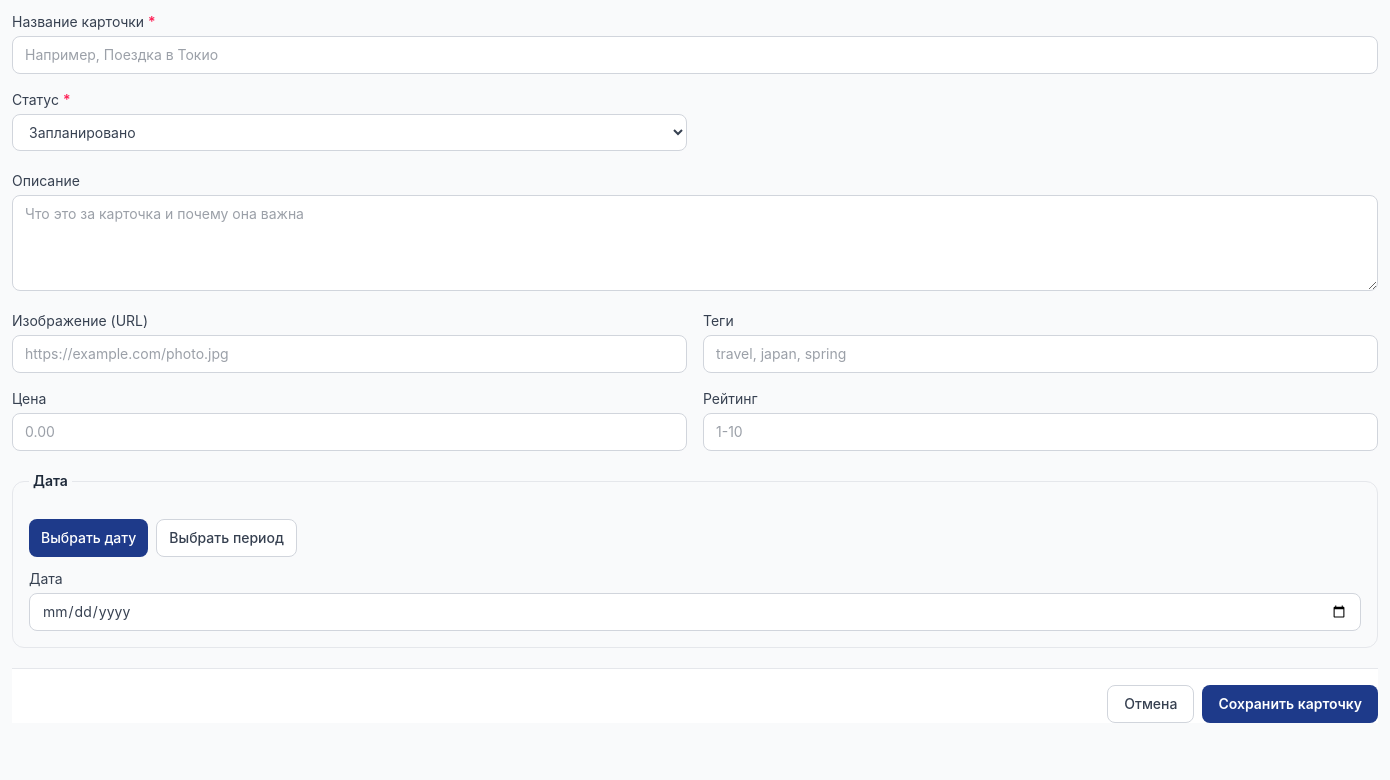
Scenario: EntryForm › requires rating and date for completed status
In the field labelled "Название карточки": [695, 55] box [12,36,1378,74], type "Tokyo"
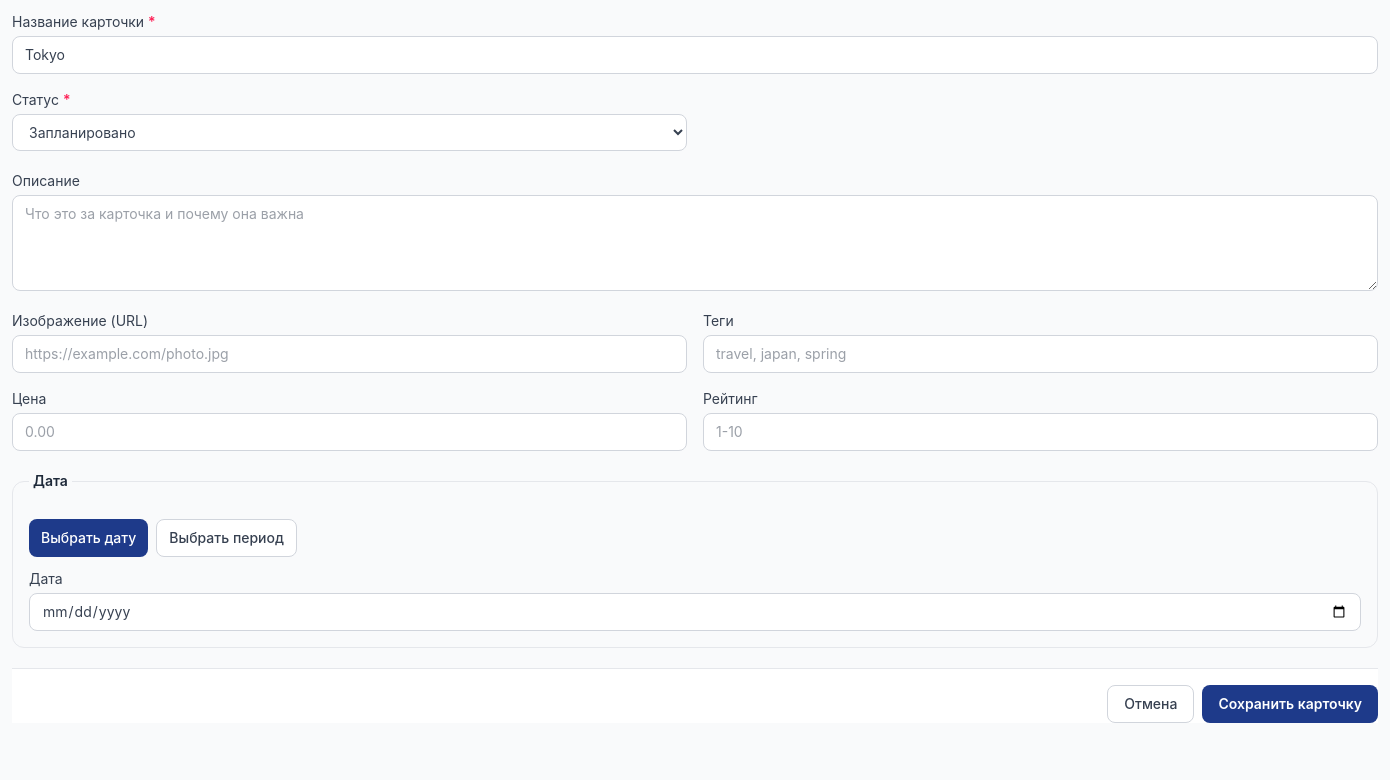
Select "Завершено" in the dropdown labelled "Статус": [350, 132] box [12,114,687,151]
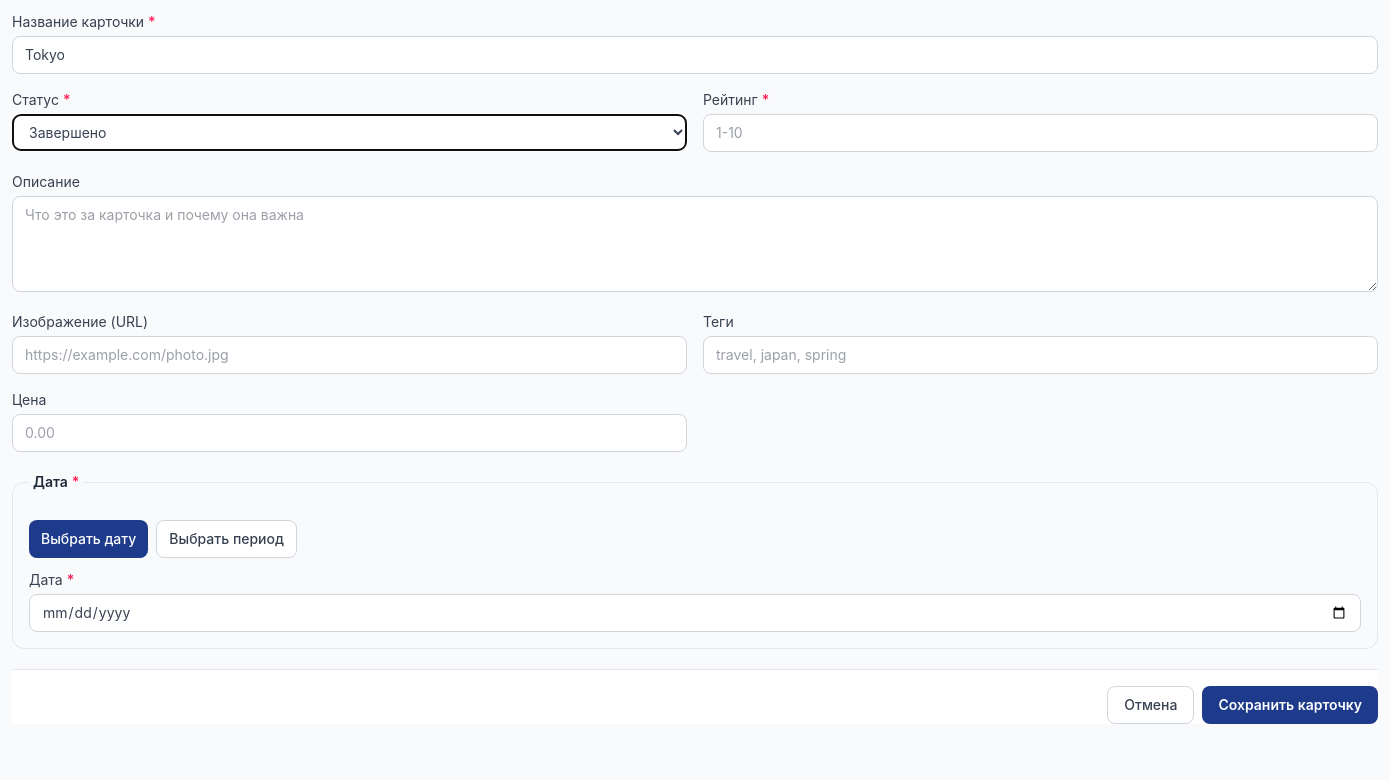
Click the button "Сохранить карточку": [1290, 705] box [1202,686,1378,724]
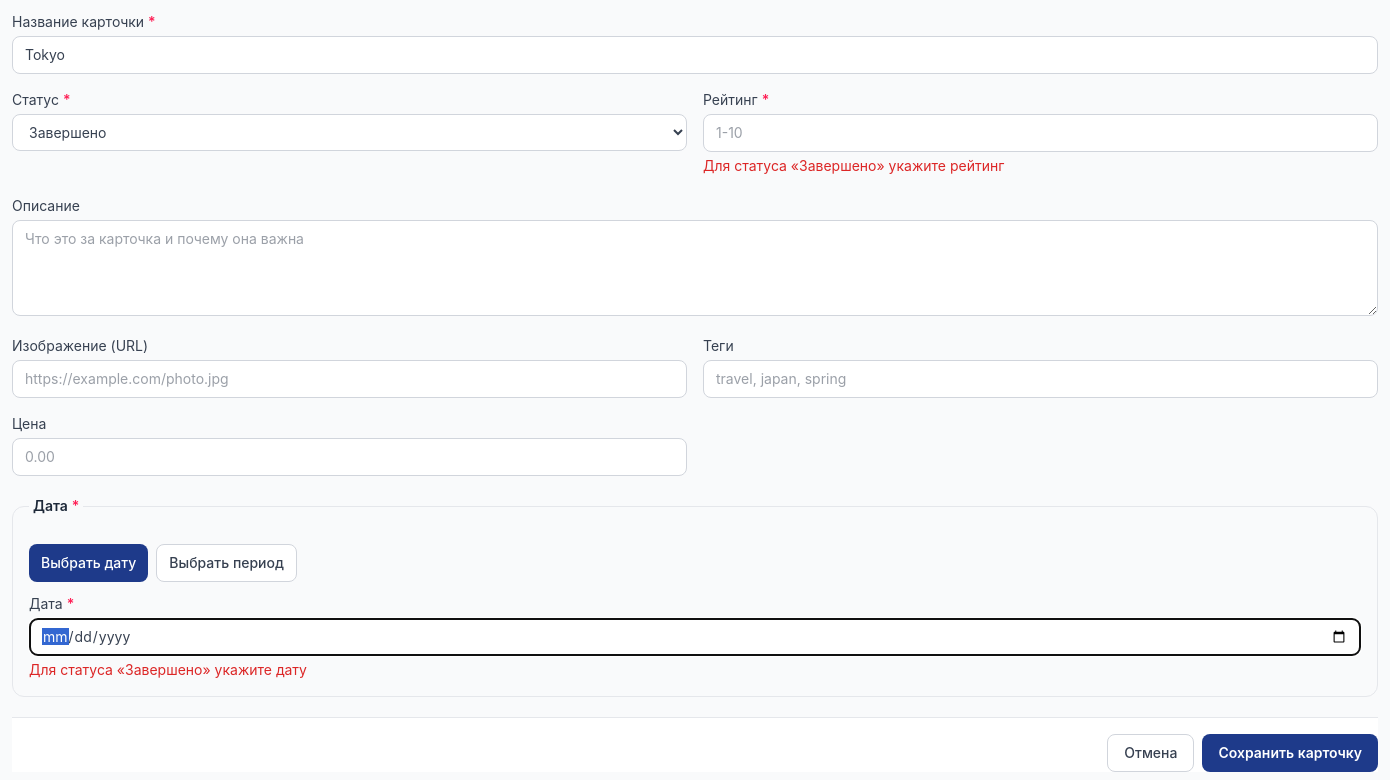
Now the text "Для статуса «Завершено» укажите рейтинг" is shown, box [703,157,1004,174]
Now the text "Для статуса «Завершено» укажите дату" is shown, box [29,661,307,678]
